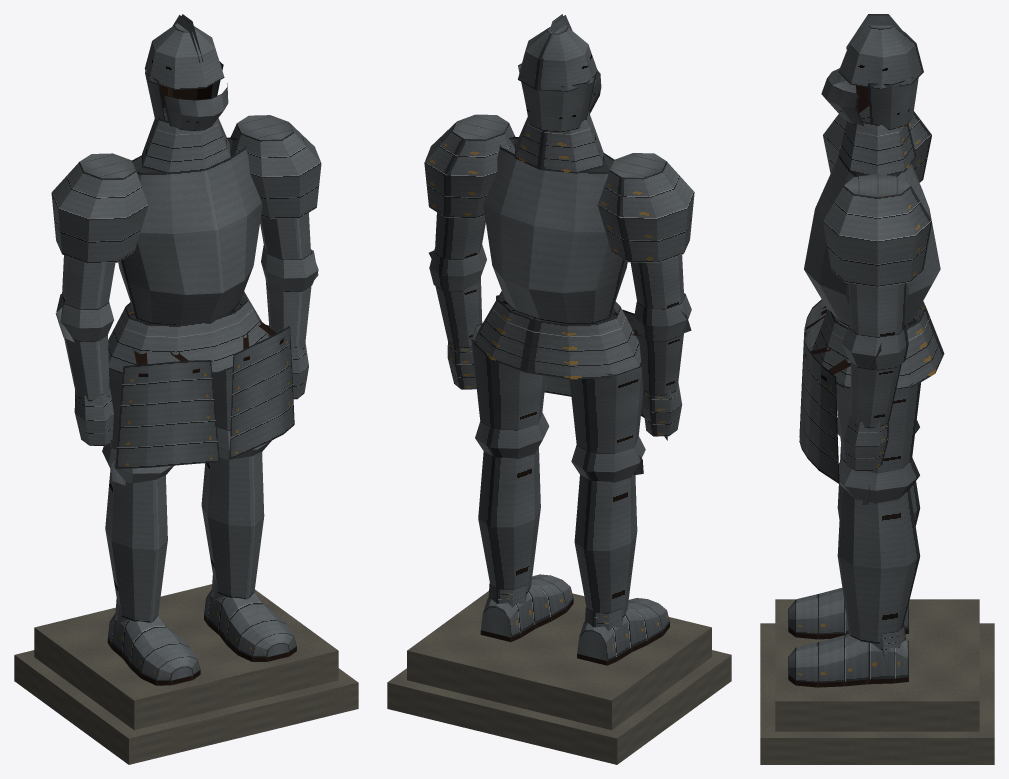
The model's file is level_castle_armour_display.glb.
3 views of the same model, side by side, from view 1: azimuth 30°, elevation 25°; view 2: azimuth 150°, elevation 25°; view 3: azimuth 270°, elevation 25° (orthographic). The views are drawn at different scales.
Visible parts, largest first — view 1: Museum harness / low-poly silhouette and painted articulatio; view 2: Museum harness / low-poly silhouette and painted articulatio; view 3: Museum harness / low-poly silhouette and painted articulatio.
Part boxes in pixels (x1,y1,x2,y2): Museum harness / low-poly silhouette and painted articulatio: (14, 14, 358, 764); Museum harness / low-poly silhouette and painted articulatio: (387, 14, 731, 764); Museum harness / low-poly silhouette and painted articulatio: (760, 14, 994, 764).
Size of the model in its own units: 0.82 by 2.06 by 0.63.
Materials: 1 (1 with a texture image).
